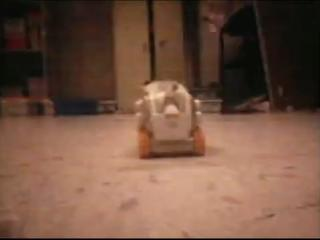cozmo: (133, 79, 206, 158)
